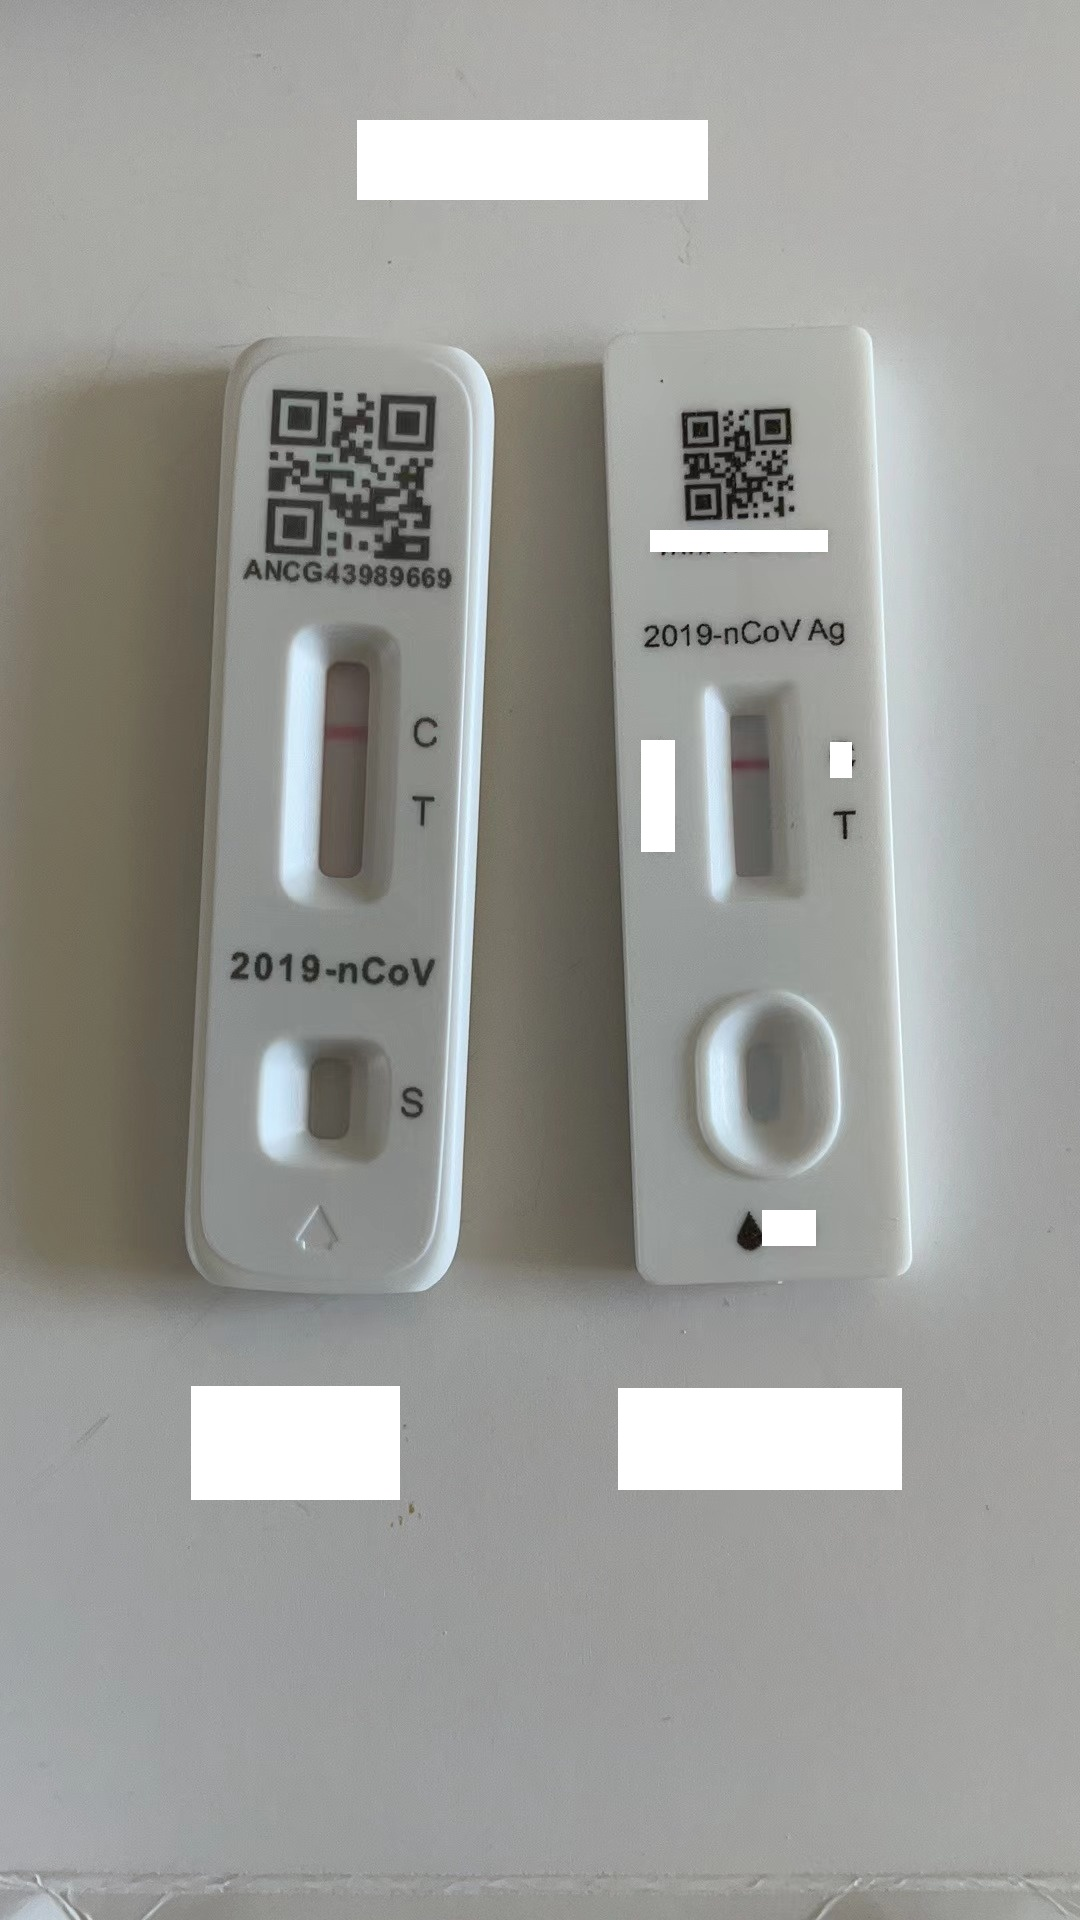negative: (285, 622, 401, 913), (704, 679, 802, 903)
